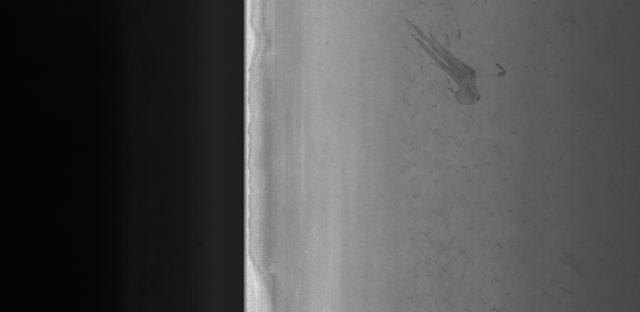silk_spot: (416, 126, 570, 298)
water_spot: (399, 13, 516, 117)
